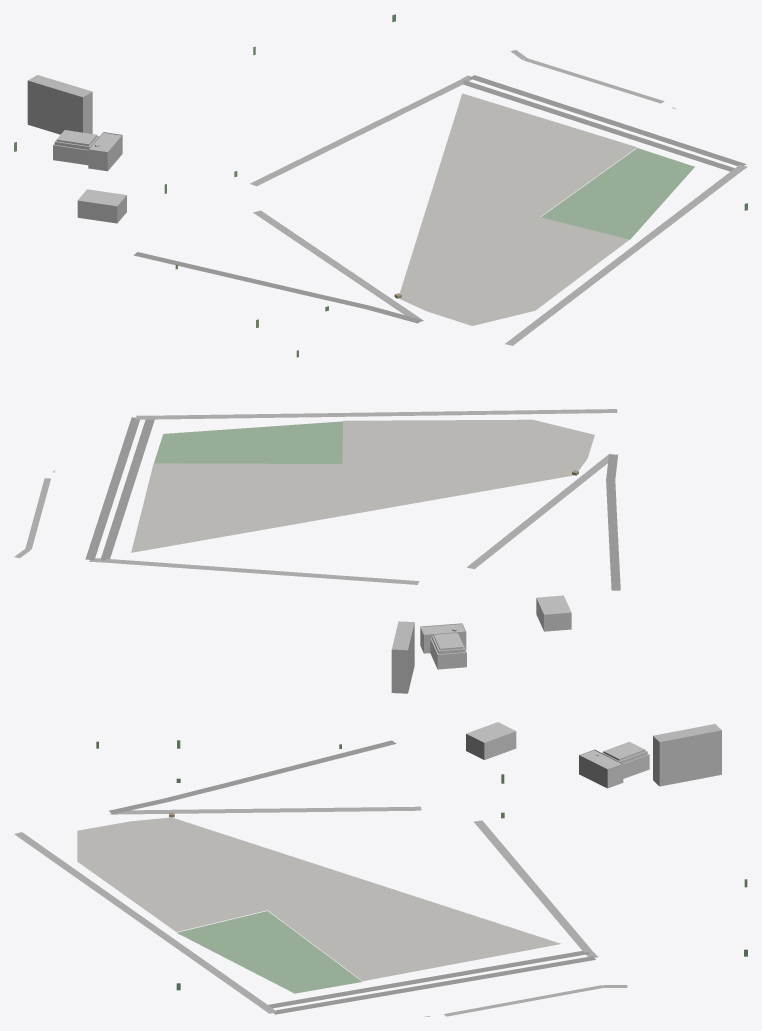
The picture shows the model from 3 angles, top to bottom: view 1: azimuth 30°, elevation 25°; view 2: azimuth 150°, elevation 25°; view 3: azimuth 270°, elevation 25°; orthographic projection. The views are drawn at different scales.
Bounding box in the file's own units: 483 × 37.56 × 543.
